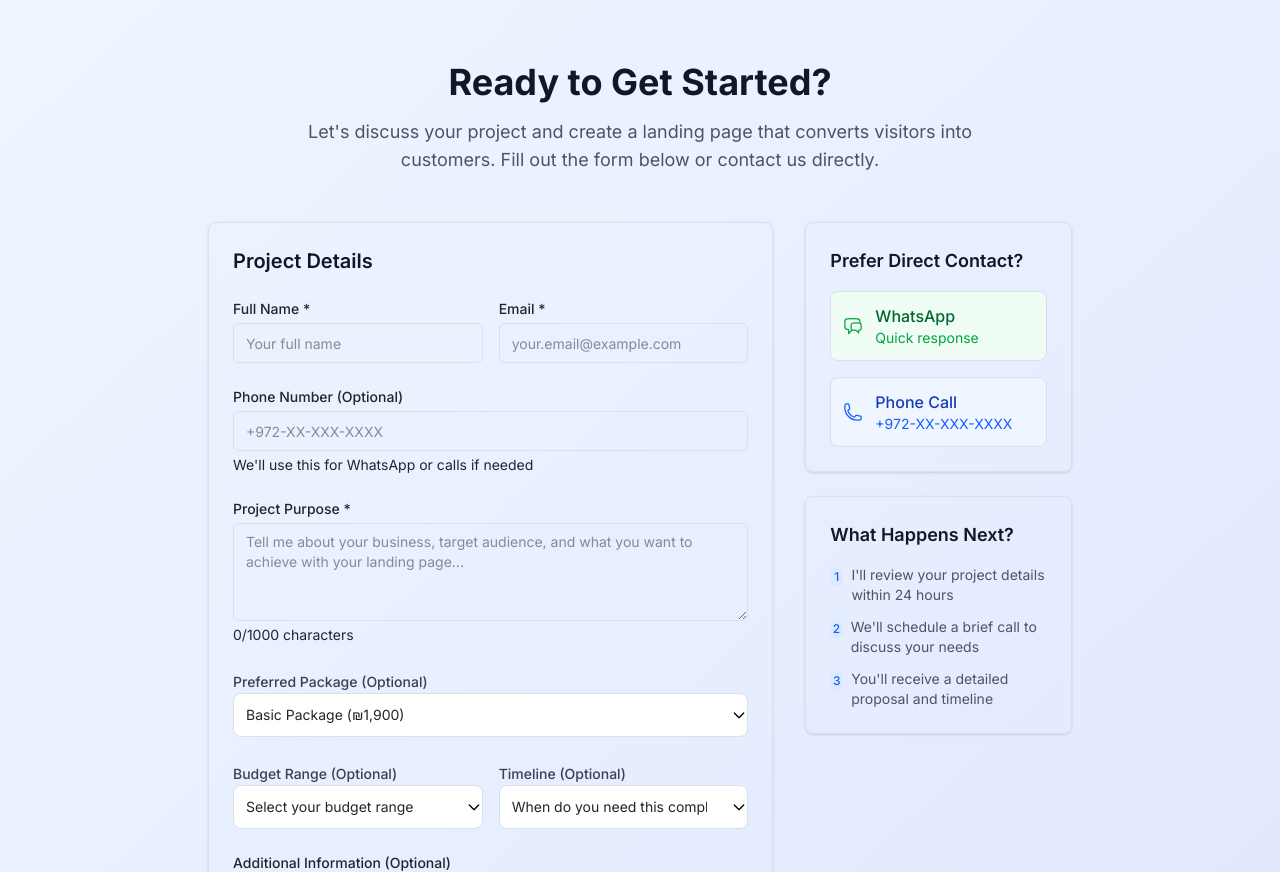
Test: Contact Component › shows error message when submission fails
// Fill out required fields
In the field labelled "Full Name *": (358, 343) [233,323,483,363], type "John Doe"
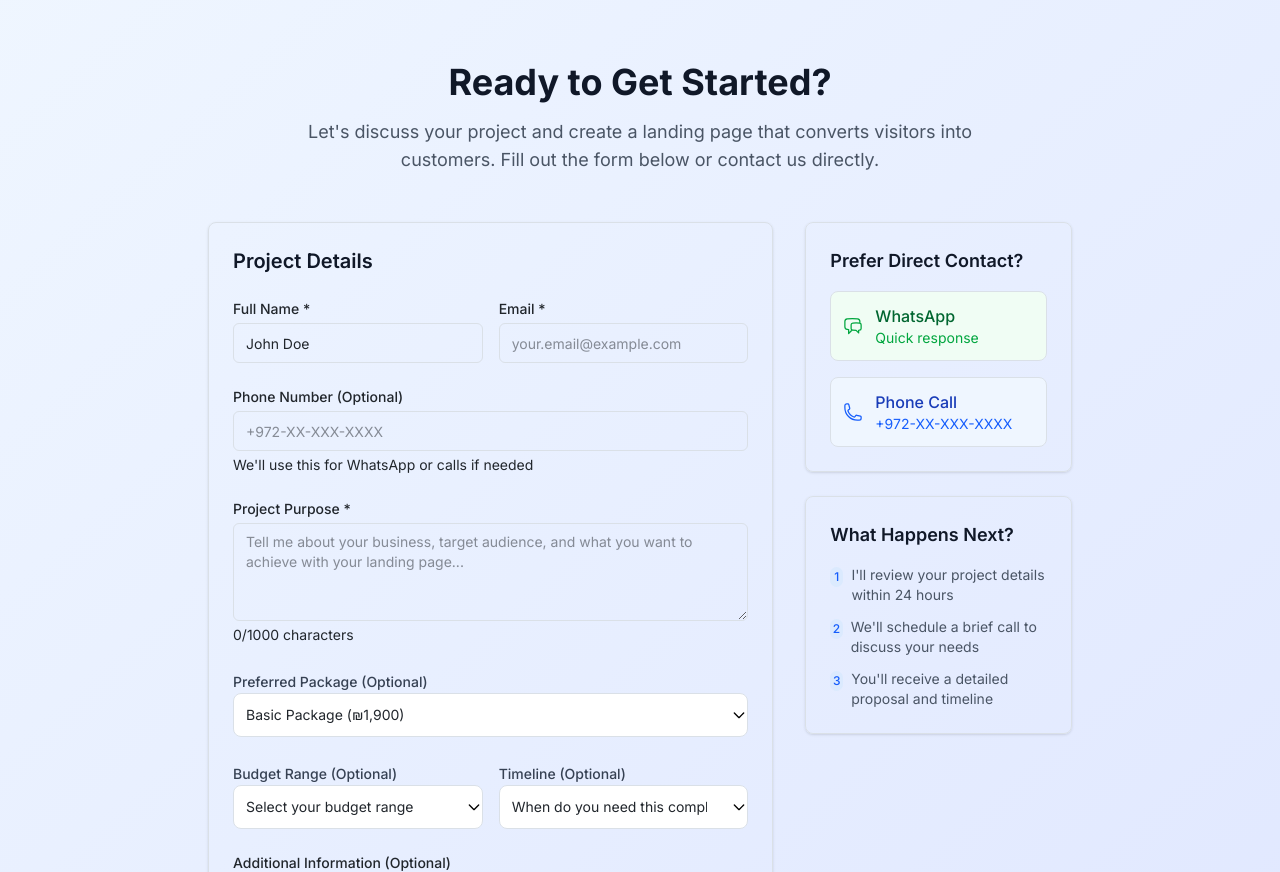
In the field labelled "Email *": (624, 343) [499,323,748,363], type "john@example.com"
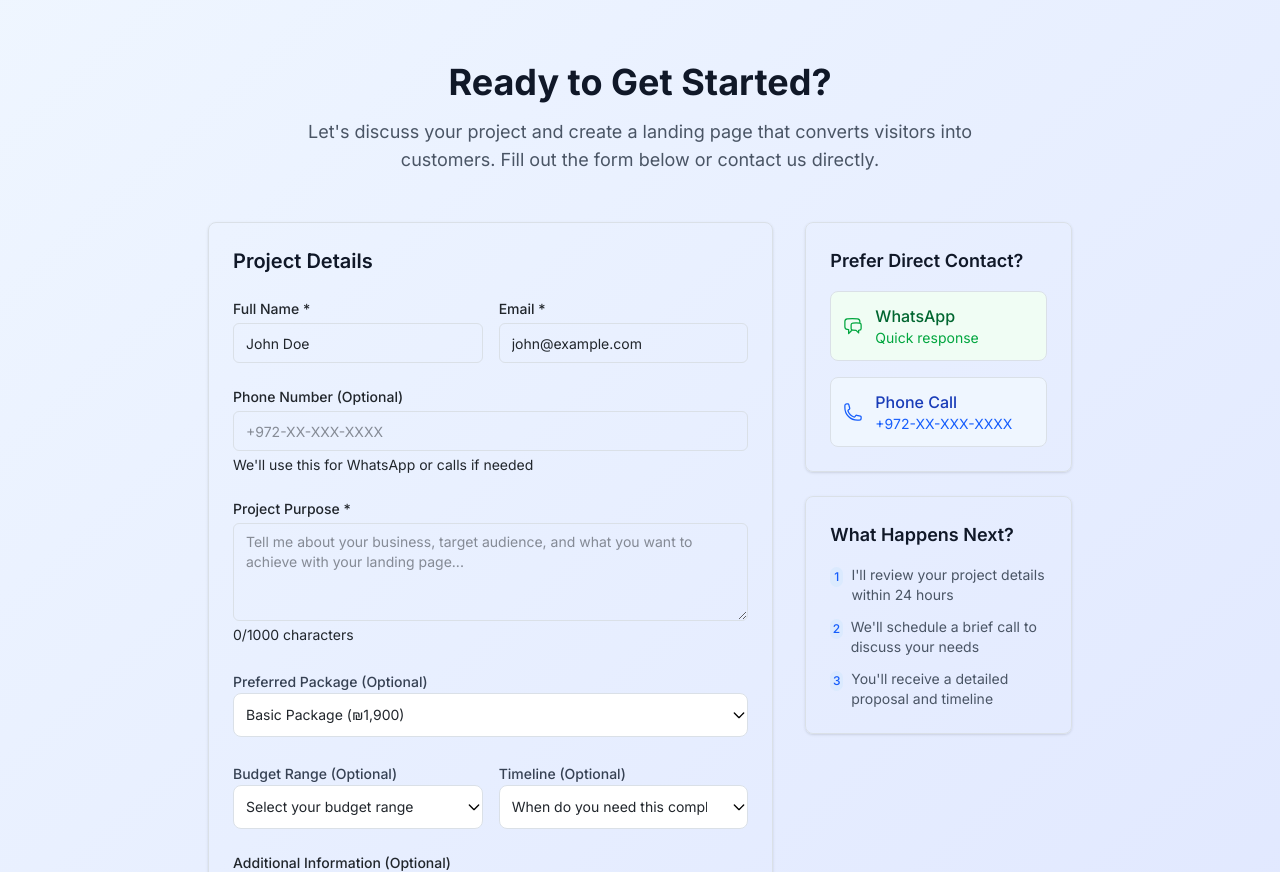
In the text box labelled "Project Purpose *": (491, 572) [233,523,748,621], type "I need a landing page for my business"
(page scrolled)
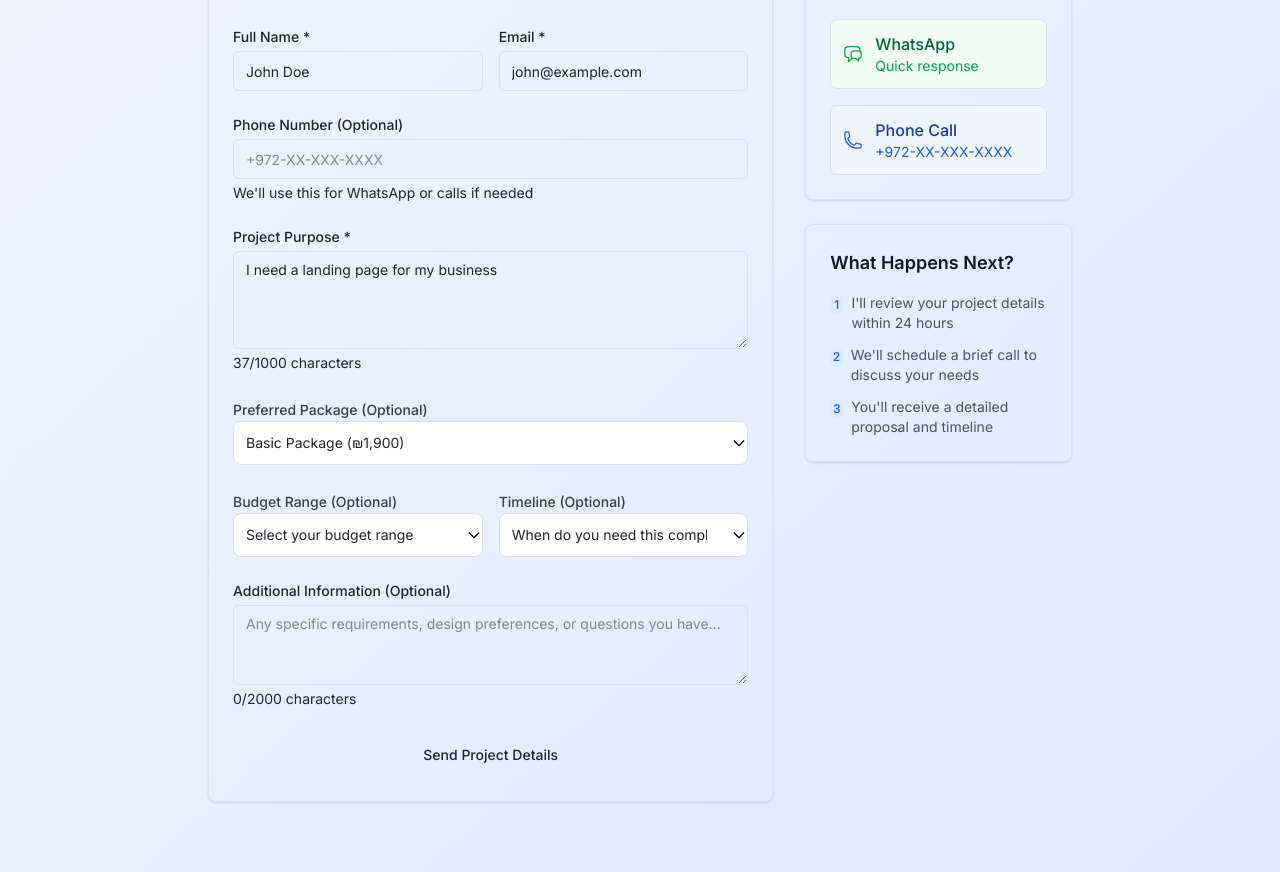
Click the button "Send Project Details": (491, 755) [233,733,748,777]
(page scrolled)
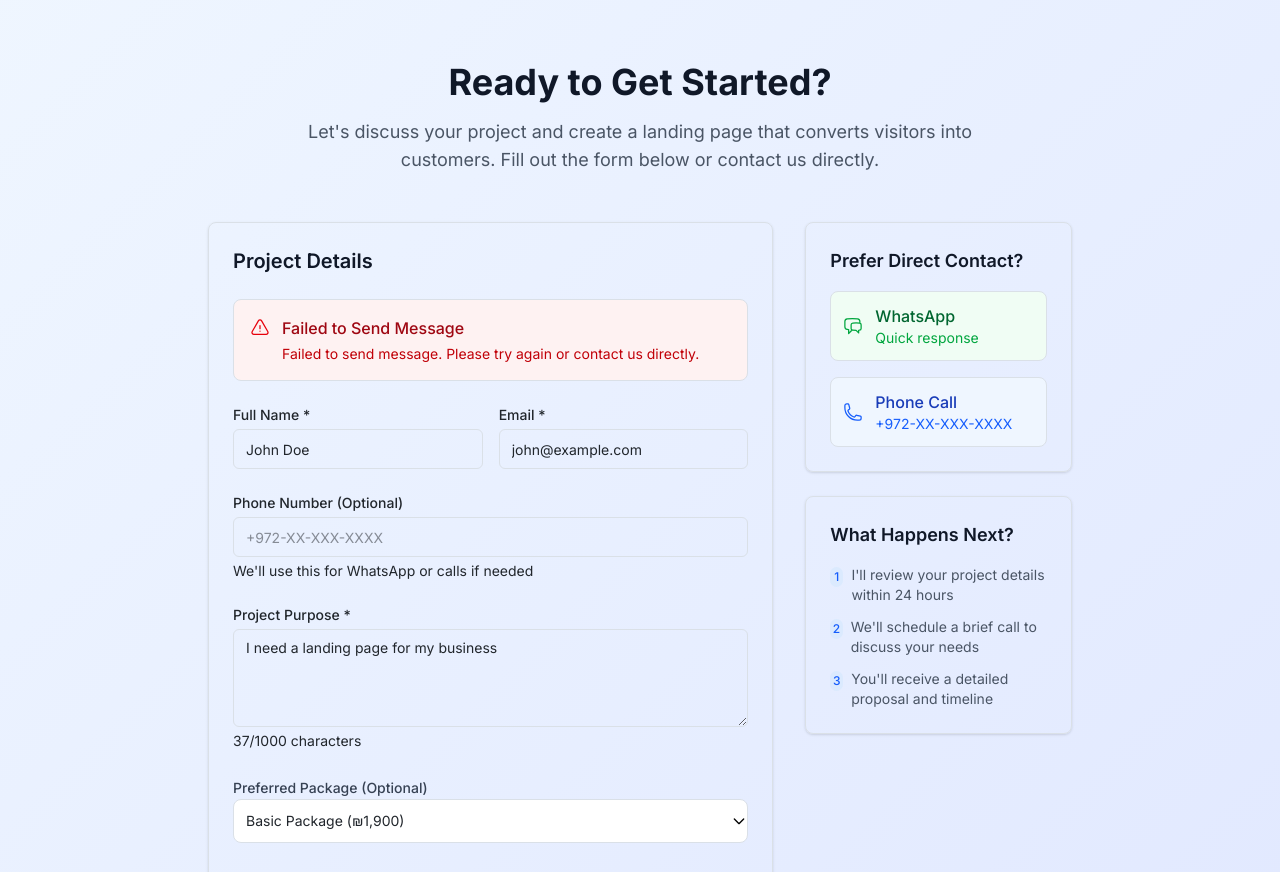
Expected: the heading "Failed to Send Message" is shown, [282,318,464,338]
Expected: the text "Please try again or contact us directly" is shown, [282,345,699,362]
